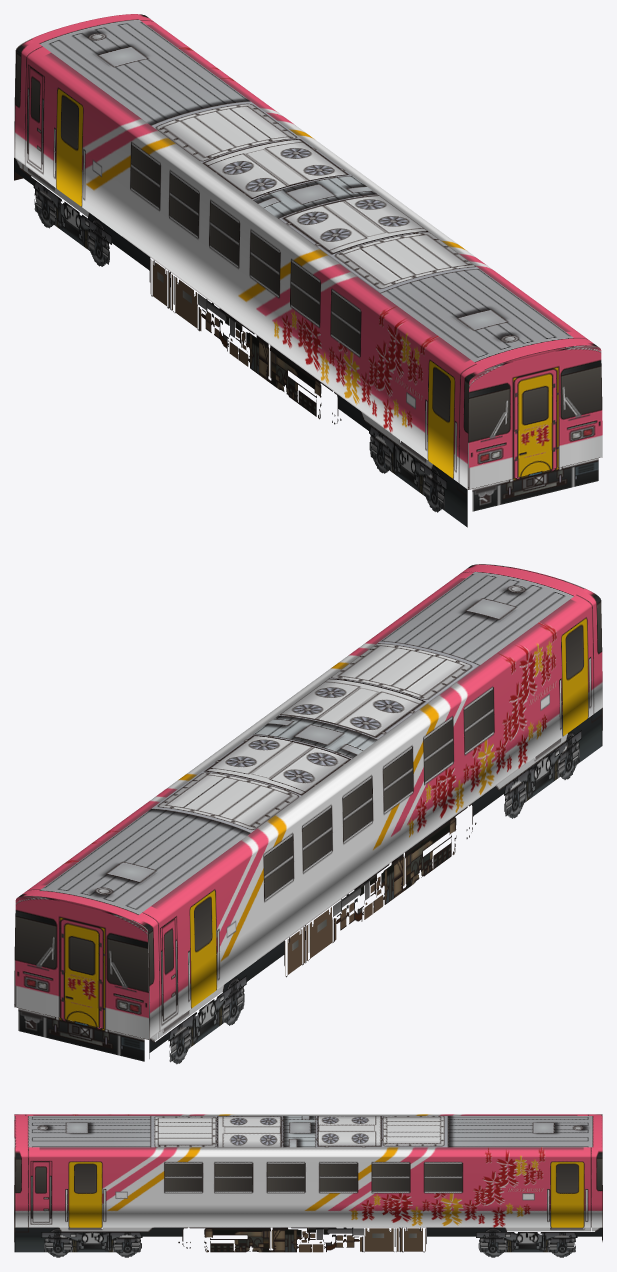
File: car1.glb
3 views of the same model, one above another, from view 1: azimuth 30°, elevation 25°; view 2: azimuth 150°, elevation 25°; view 3: azimuth 270°, elevation 25° (orthographic). The views are drawn at different scales.
Visible parts, largest first — view 1: hojo-flower2000-car1; view 2: hojo-flower2000-car1; view 3: hojo-flower2000-car1.
Part boxes in pixels (x1=…): hojo-flower2000-car1: x1=14, y1=14, x2=602, y2=527; hojo-flower2000-car1: x1=14, y1=564, x2=602, y2=1064; hojo-flower2000-car1: x1=14, y1=1114, x2=602, y2=1257.
Size of the model in its own units: 3.09 by 3.62 by 18.03.
8 materials, 7 textured.
